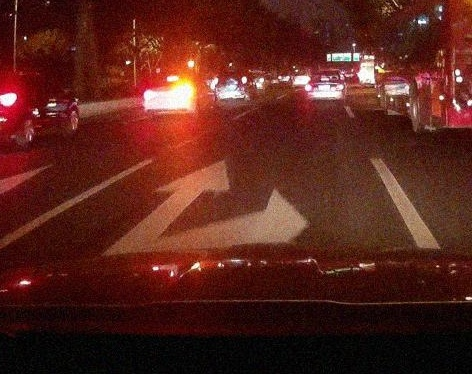L_light: (145, 92, 153, 99), (306, 85, 312, 91)
R_light: (180, 90, 191, 98), (336, 85, 343, 91)
T_light: (167, 77, 177, 80), (321, 78, 329, 80)
night-brake: (305, 70, 345, 103)
night-right: (143, 72, 194, 119)
